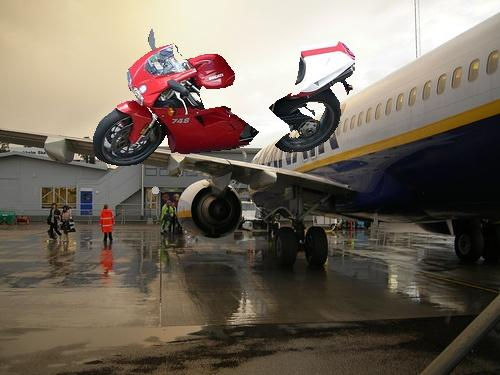tampered: (94, 30, 355, 194)
